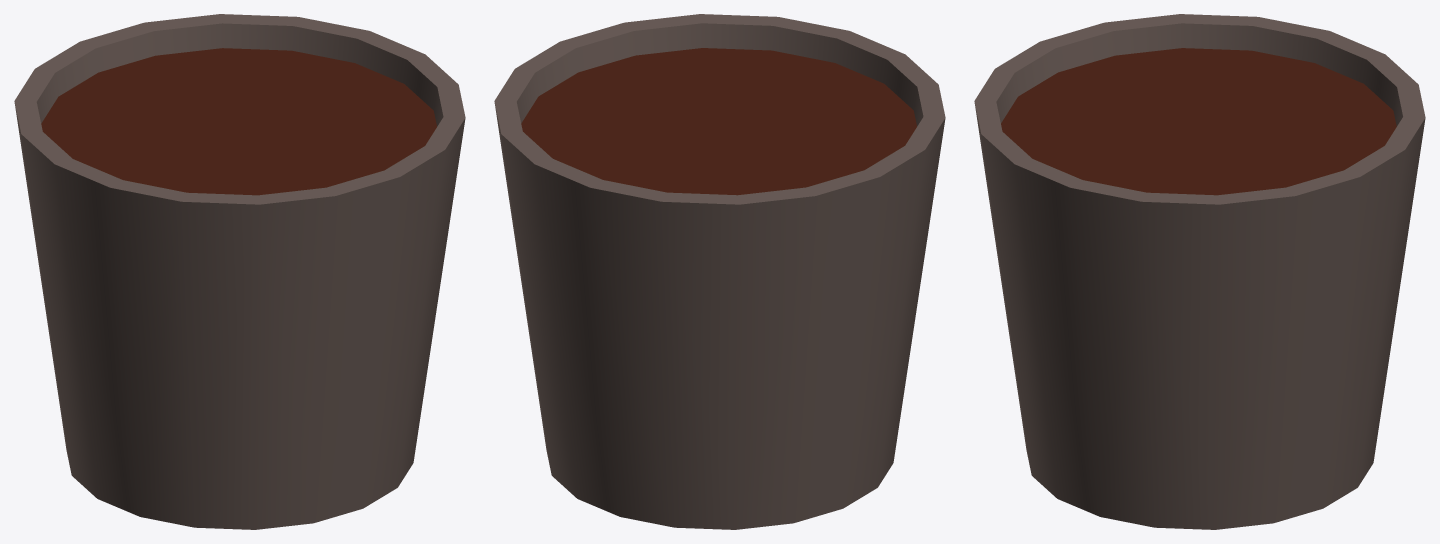
Rendered from CirclePot.fbx.
3 views of the same model, side by side, from view 1: azimuth 30°, elevation 25°; view 2: azimuth 150°, elevation 25°; view 3: azimuth 270°, elevation 25° (orthographic).
Parts seen in each view (by area): view 1: CirclePot; view 2: CirclePot; view 3: CirclePot.
Part boxes in pixels (left/top/right/bottom): CirclePot: left=14, top=14, right=465, bottom=529; CirclePot: left=494, top=14, right=945, bottom=529; CirclePot: left=974, top=14, right=1425, bottom=529.
Bounding box in the file's own units: 38.85 × 38.85 × 33.
